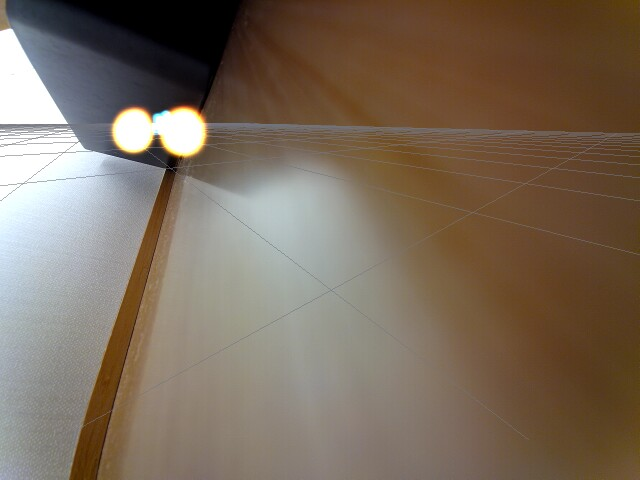fire: (156, 101, 206, 157), (110, 106, 153, 152)
